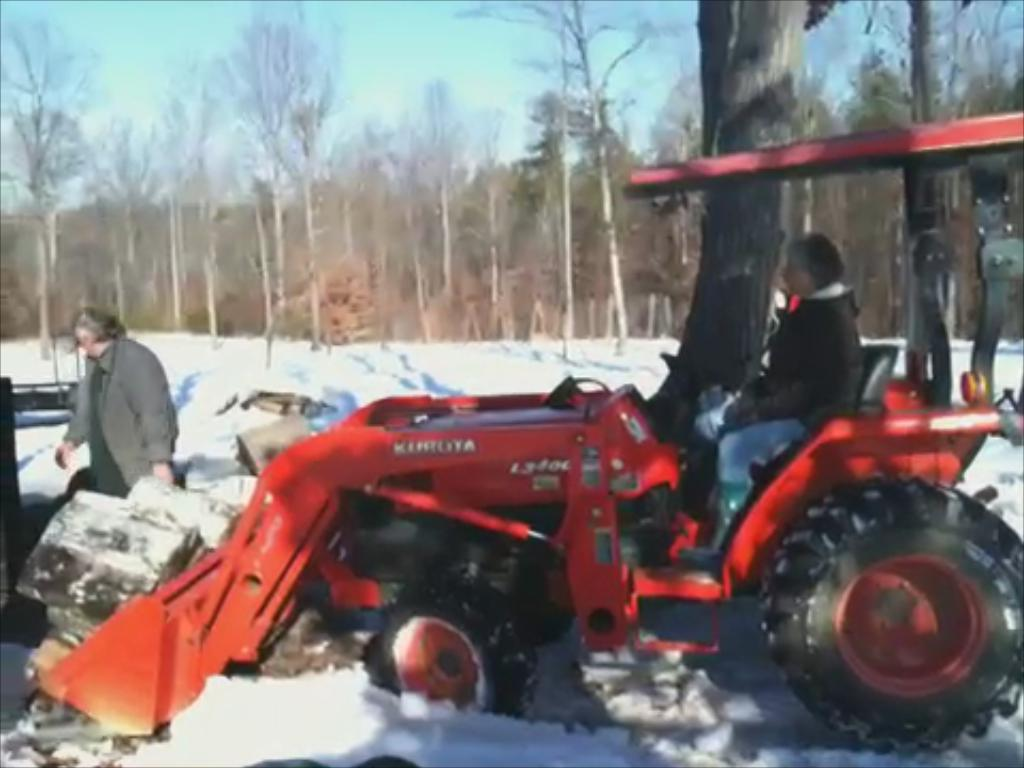Tree: (0, 0, 1023, 443)
